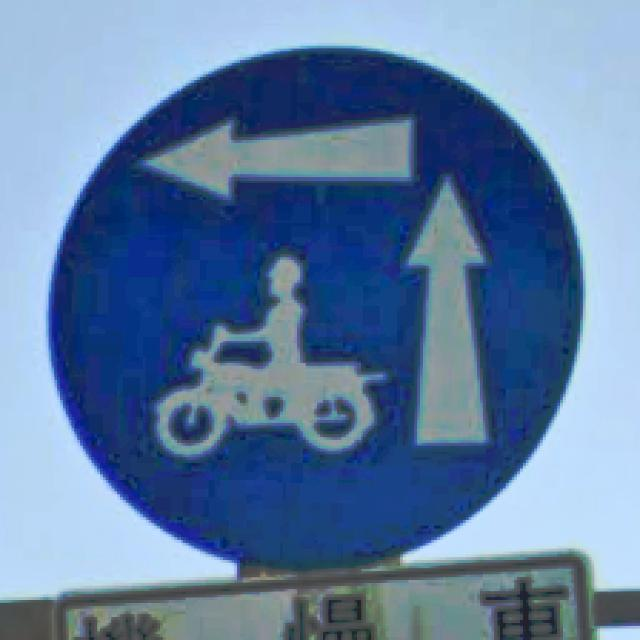twostageturn: (51, 49, 583, 566)
